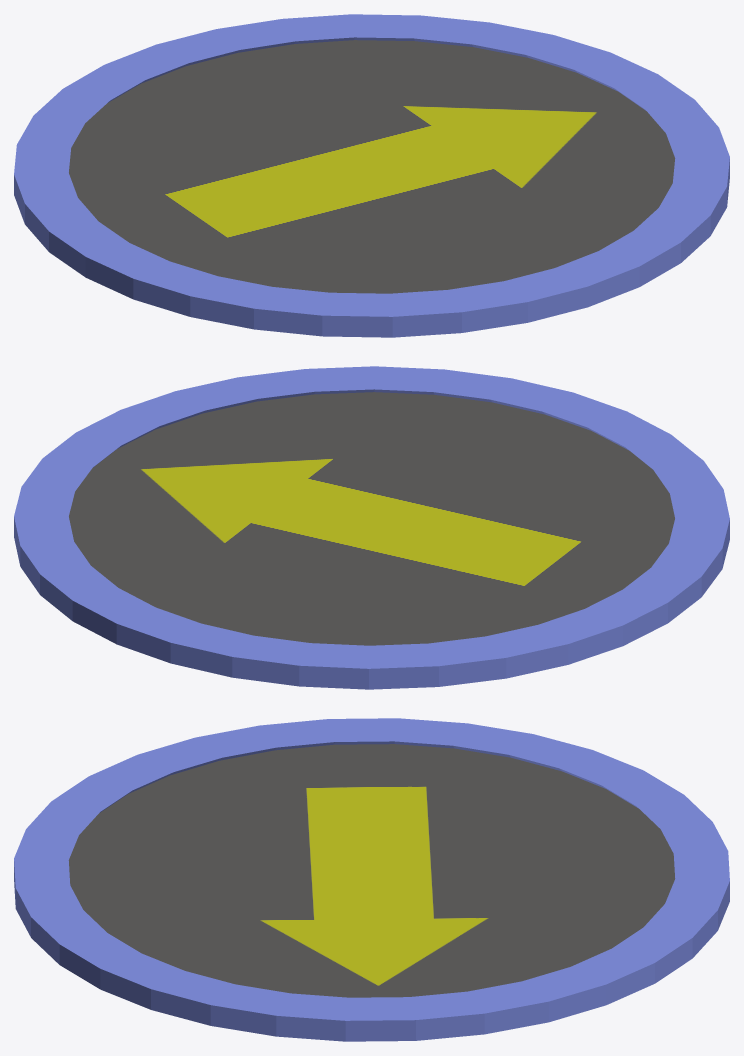
The model's file is Trampoline.fbx.
3 views of the same model, one above another, from view 1: azimuth 30°, elevation 25°; view 2: azimuth 150°, elevation 25°; view 3: azimuth 270°, elevation 25° (orthographic).
Visible parts, largest first — view 1: BouncingPad; view 2: BouncingPad; view 3: BouncingPad.
Boxes of the visible parts, x1,y1,x2,y2 form: BouncingPad: (14, 14, 729, 337); BouncingPad: (14, 366, 729, 689); BouncingPad: (14, 718, 729, 1041).
Size of the model in its own units: 299 by 9.6 by 299.
